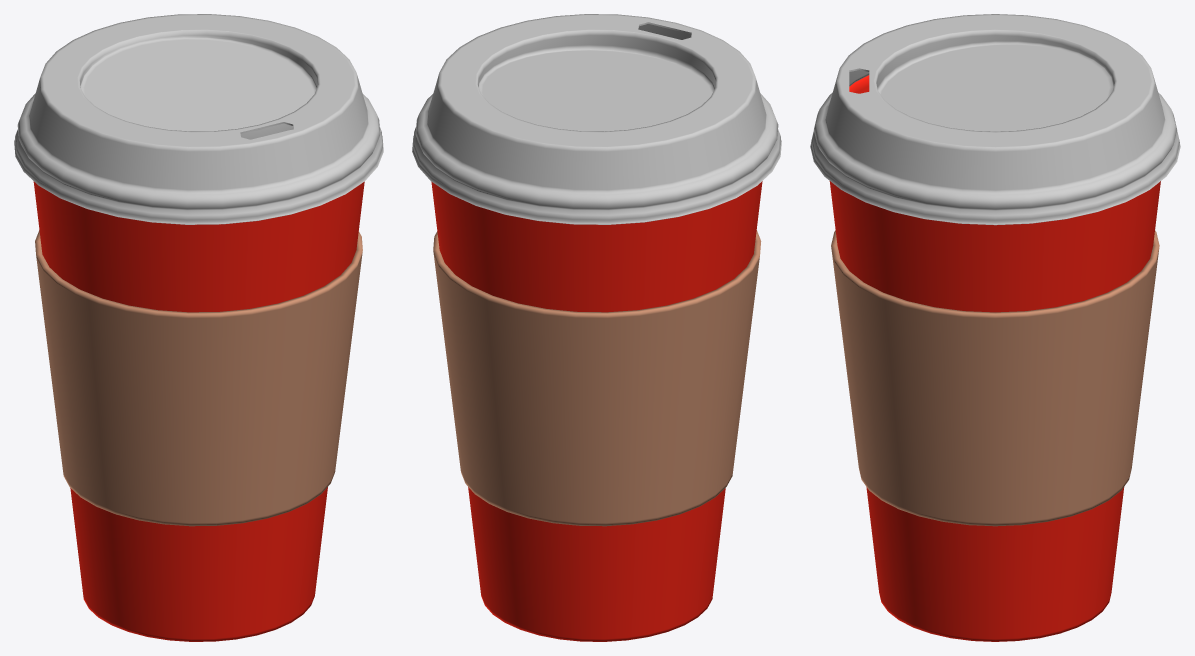
The model's file is coffeecup.obj.
The picture shows the model from 3 angles, left to right: view 1: azimuth 30°, elevation 25°; view 2: azimuth 150°, elevation 25°; view 3: azimuth 270°, elevation 25°; orthographic projection.
Visible parts, largest first — view 1: Sleeve_Circle.001, Lid_Circle.002, Cup_Circle.001; view 2: Sleeve_Circle.001, Lid_Circle.002, Cup_Circle.001; view 3: Sleeve_Circle.001, Lid_Circle.002, Cup_Circle.001.
Part boxes in pixels (x1,y1,x2,y2): Sleeve_Circle.001: [35, 230, 362, 526]; Lid_Circle.002: [14, 14, 383, 224]; Cup_Circle.001: [33, 181, 364, 641]; Sleeve_Circle.001: [433, 230, 761, 526]; Lid_Circle.002: [412, 14, 781, 224]; Cup_Circle.001: [431, 181, 762, 641]; Sleeve_Circle.001: [831, 230, 1159, 526]; Lid_Circle.002: [810, 14, 1180, 225]; Cup_Circle.001: [829, 75, 1160, 641].
Bounding box in the file's own units: 3.19 × 4.86 × 3.19.
